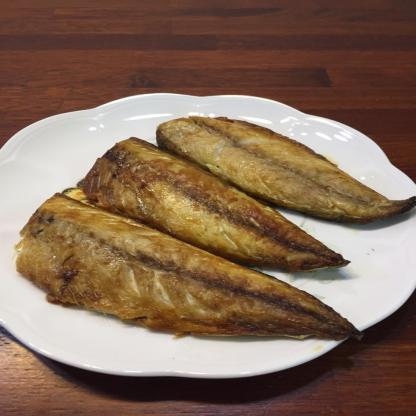Peixe: (0, 94, 416, 362)
